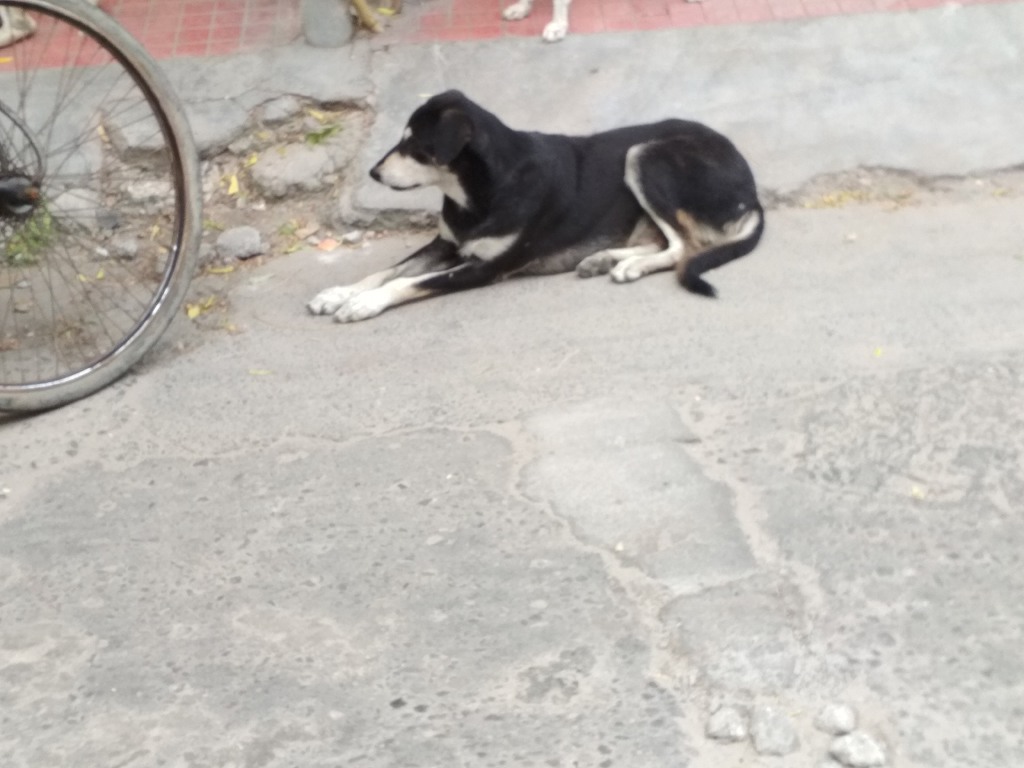dog: (304, 90, 763, 324)
